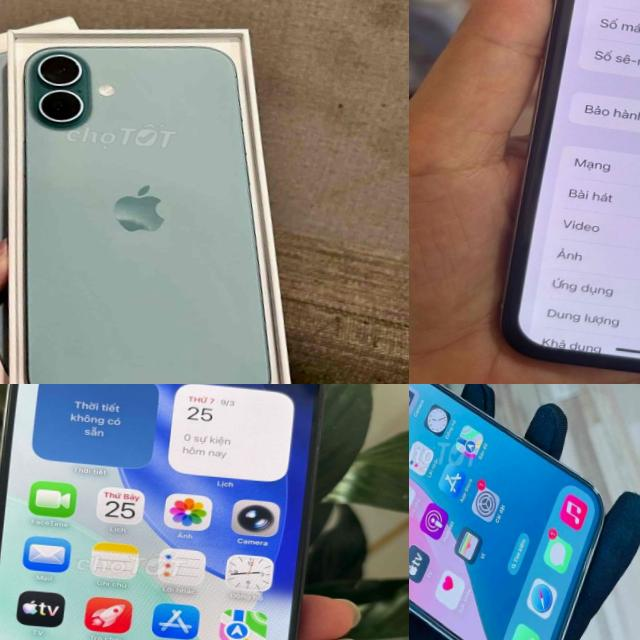gen_12_13: (409, 384, 619, 640)
gen_15: (0, 384, 335, 640)
gen_16: (0, 29, 298, 384)
gen_x_xs: (499, 0, 640, 372)
